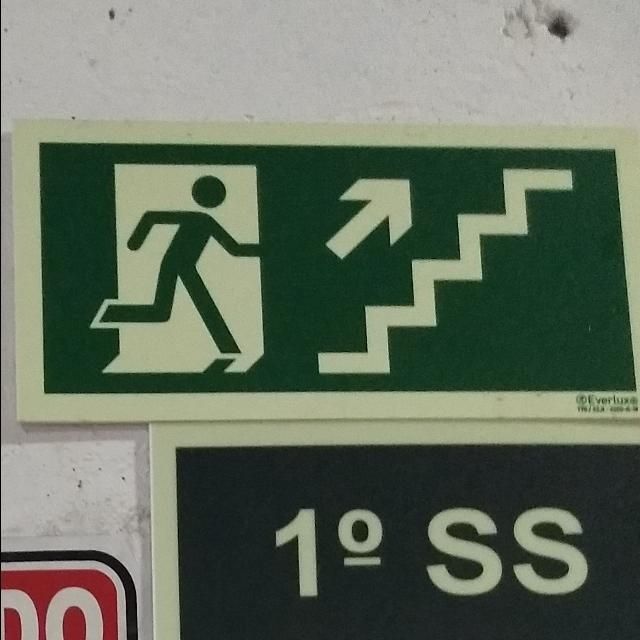exit: (12, 121, 639, 422)
